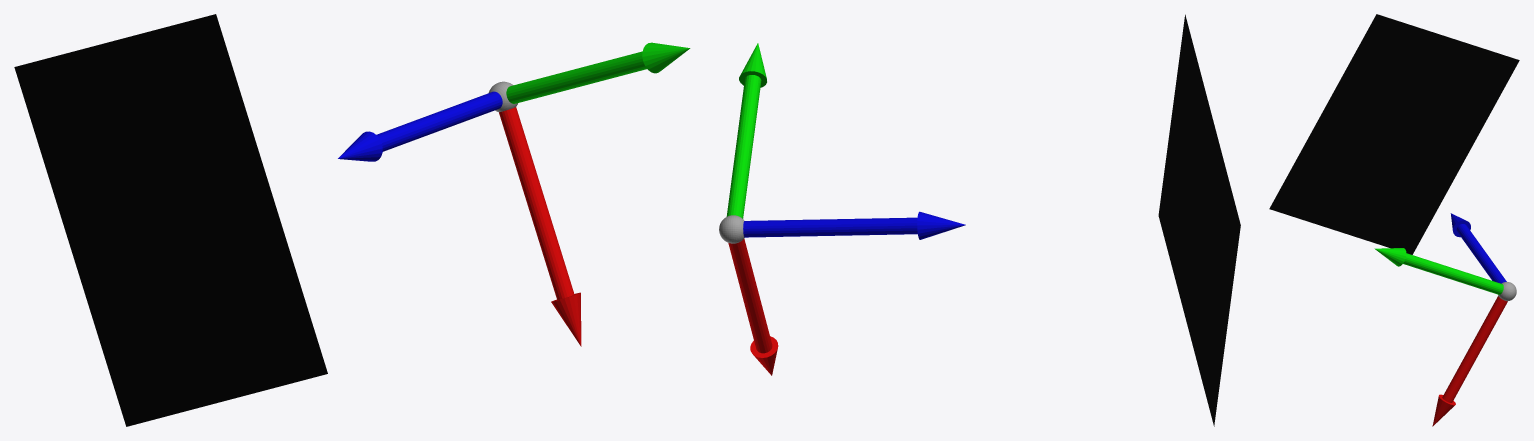
3 renders of one model, left to right at view 1: azimuth 30°, elevation 25°; view 2: azimuth 150°, elevation 25°; view 3: azimuth 270°, elevation 25°, orthographic. The views are drawn at different scales.
Size of the model in its own units: 0.3079 by 0.2456 by 0.193.
